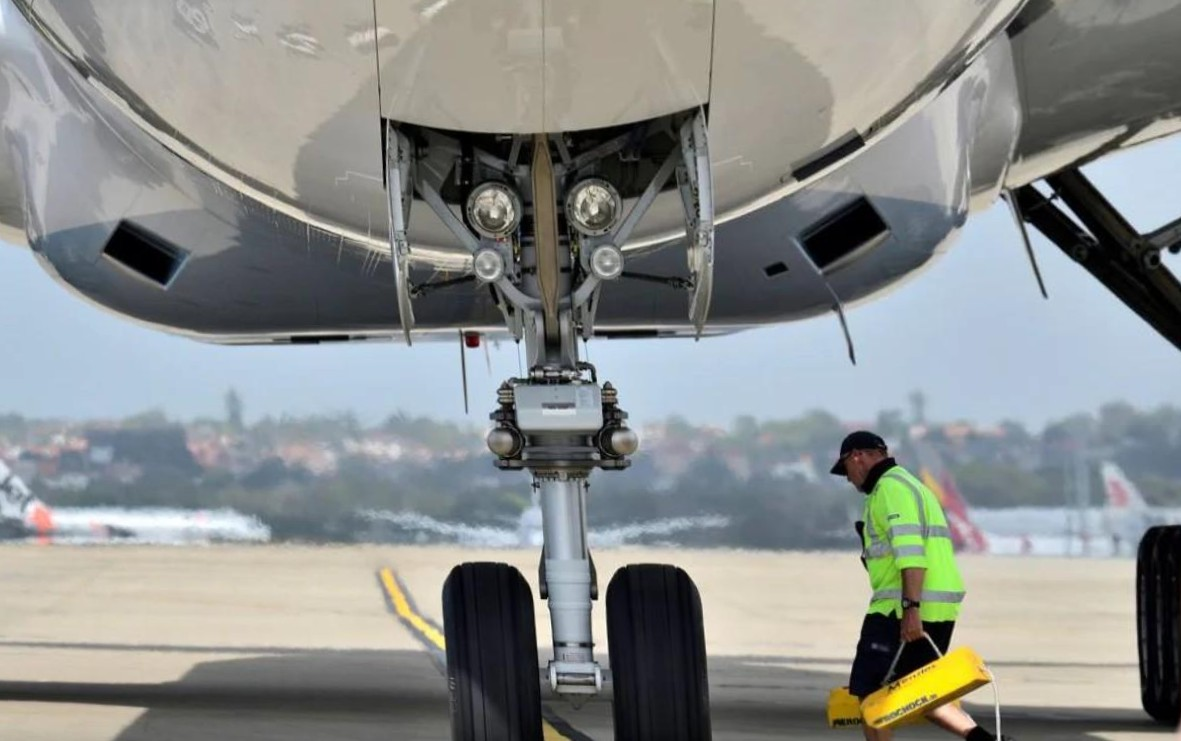chock: (851, 642, 998, 735), (825, 682, 962, 729)
wheel: (600, 562, 717, 741), (433, 560, 547, 741), (1133, 525, 1181, 725)
